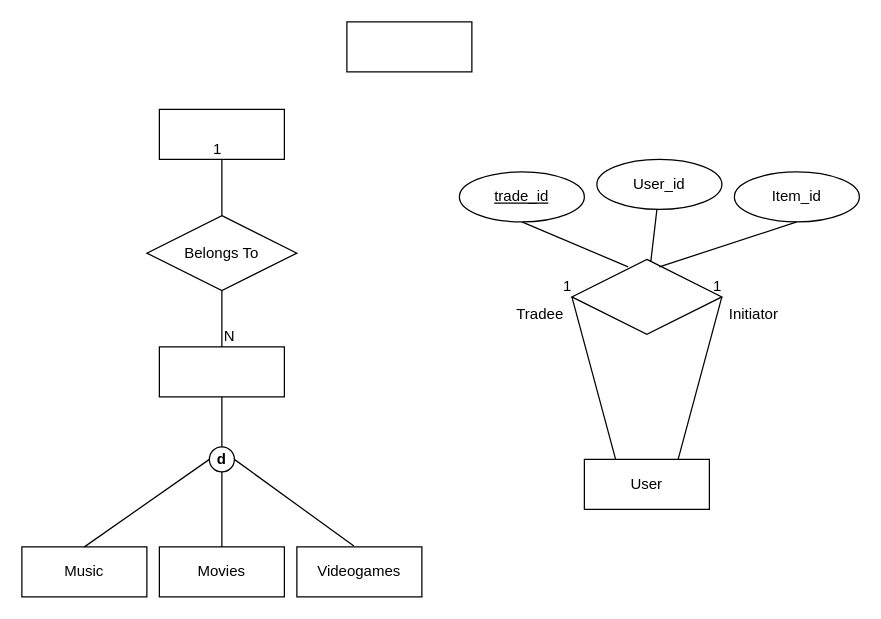
Image size: 881x619. Some labels were removed from this diagram. Each missing label, with the centre of its shape:
Category: the point at 221,133
Items: the point at 221,371
Trade History: the point at 409,46
Trades: the point at 646,296
